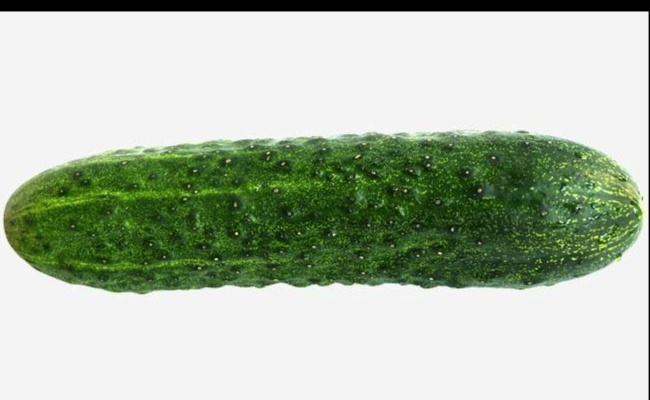cucumber: (4, 128, 644, 291)
